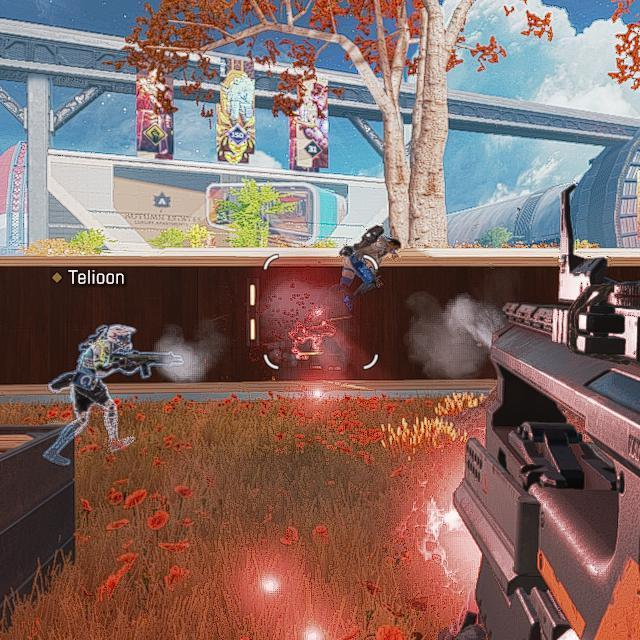avatar: (67, 323, 138, 458), (335, 225, 403, 292)
